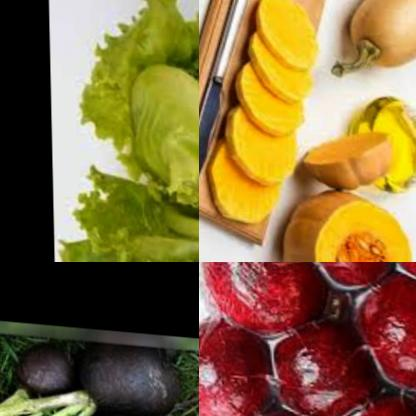beet: (199, 262, 416, 416)
pumpkin: (279, 176, 413, 262), (325, 0, 416, 84), (213, 101, 302, 181), (296, 117, 394, 189), (207, 140, 286, 226), (230, 54, 309, 132), (241, 29, 317, 100), (248, 0, 323, 58)
redka: (76, 336, 184, 416), (17, 338, 83, 402)
salad: (61, 0, 199, 207), (49, 154, 199, 262)
